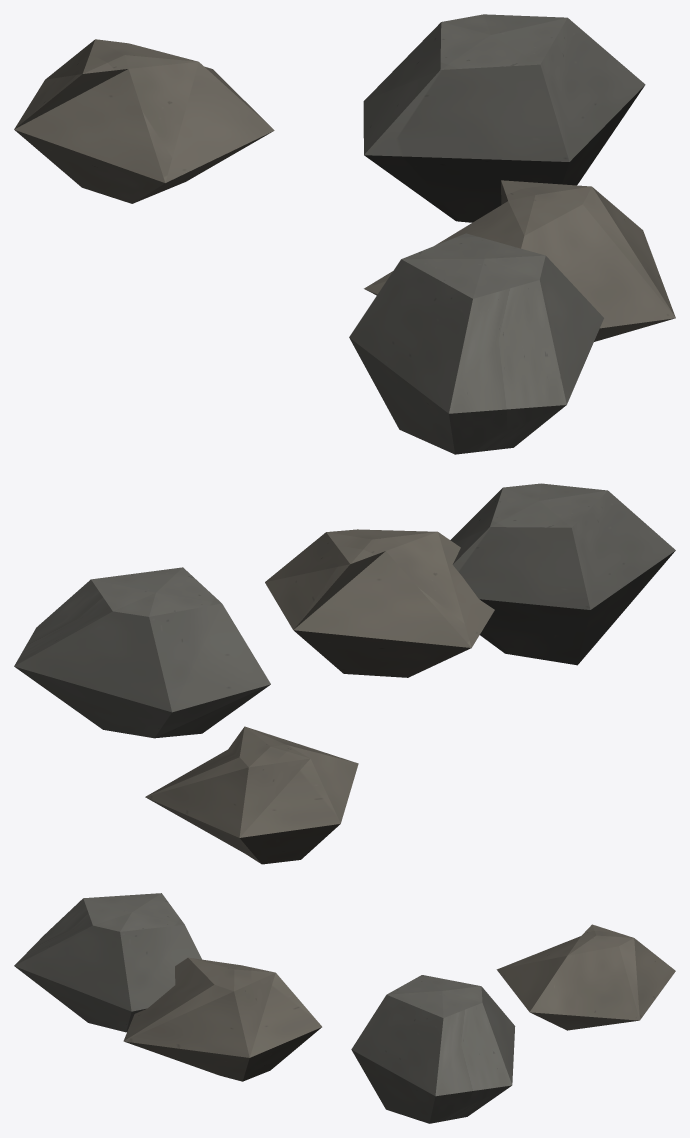
File: DecorativeRockPebbleCluster4.glb
3 views of the same model, one above another, from view 1: azimuth 30°, elevation 25°; view 2: azimuth 150°, elevation 25°; view 3: azimuth 270°, elevation 25° (orthographic). The views are drawn at different scales.
Parts seen in each view (by area): view 1: DecorativeRockPebbleCluster4; view 2: DecorativeRockPebbleCluster4; view 3: DecorativeRockPebbleCluster4.
Part boxes in pixels (left/top/right/bottom): DecorativeRockPebbleCluster4: left=14, top=14, right=675, bottom=454; DecorativeRockPebbleCluster4: left=14, top=483, right=675, bottom=864; DecorativeRockPebbleCluster4: left=14, top=893, right=675, bottom=1123.
Bounding box in the file's own units: 0.9518 × 0.3071 × 1.61.
Materials: 6 (6 with a texture image).
